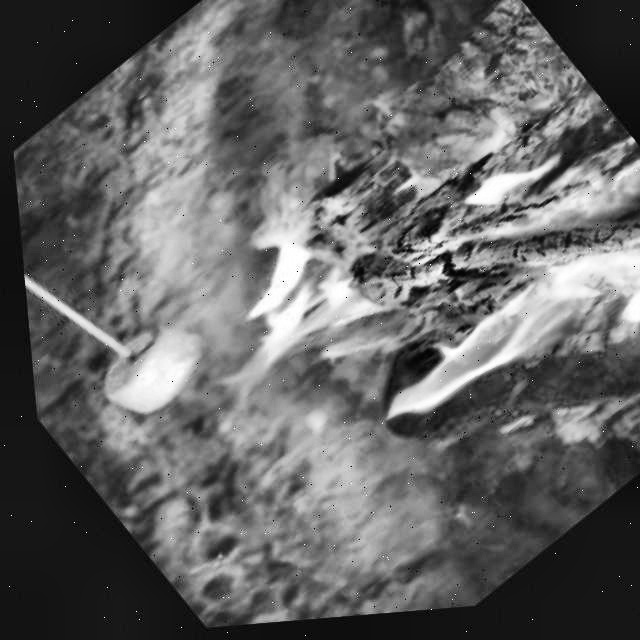Fire: (312, 166, 640, 531), (146, 194, 421, 438)
